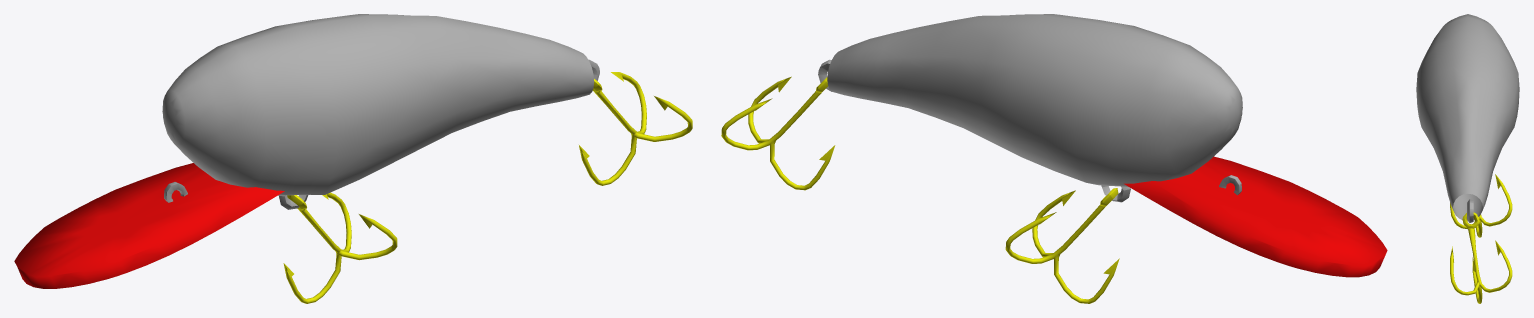
Rendered from Crank_L.fbx.
The picture shows the model from 3 angles, left to right: view 1: azimuth 30°, elevation 25°; view 2: azimuth 150°, elevation 25°; view 3: azimuth 270°, elevation 25°; orthographic projection. The views are drawn at different scales.
Parts seen in each view (by area): view 1: polySurface410; view 2: polySurface410; view 3: polySurface410.
Part boxes in pixels (<box>): polySurface410: <box>14,14,692,303</box>; polySurface410: <box>721,14,1387,303</box>; polySurface410: <box>1416,14,1519,303</box>.
Bounding box in the file's own units: 1.93 × 0.7997 × 0.3855.
